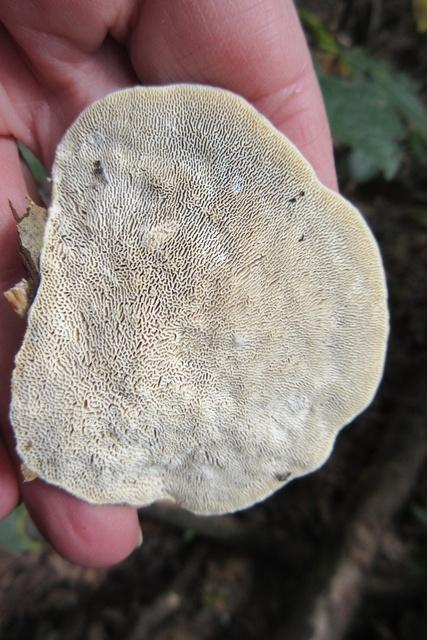poisonous_mushroom: (4, 82, 391, 517)
